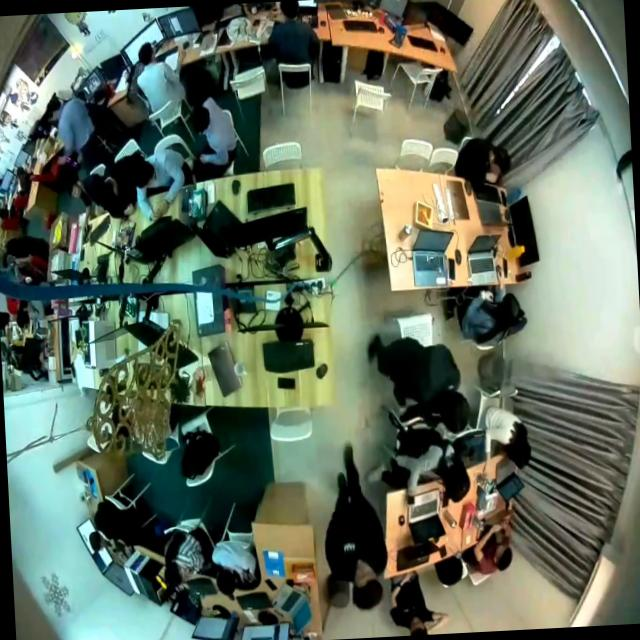employee_tag: (344, 542, 356, 554)
